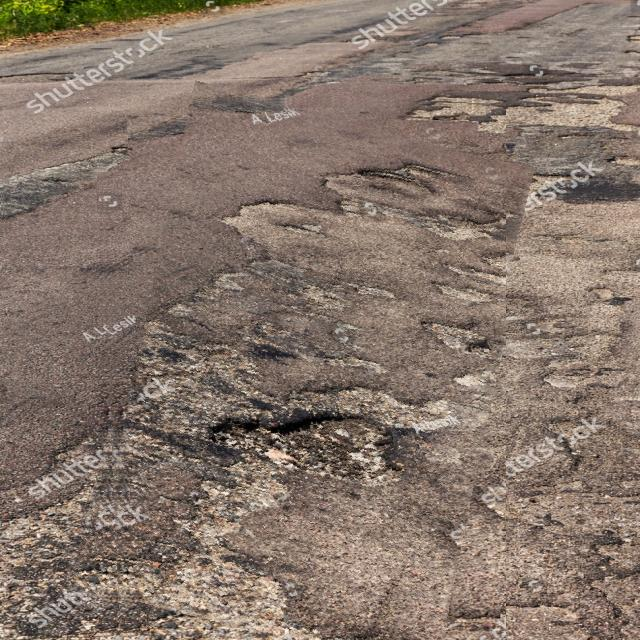Pothole: (96, 97, 506, 640), (0, 168, 97, 235)
